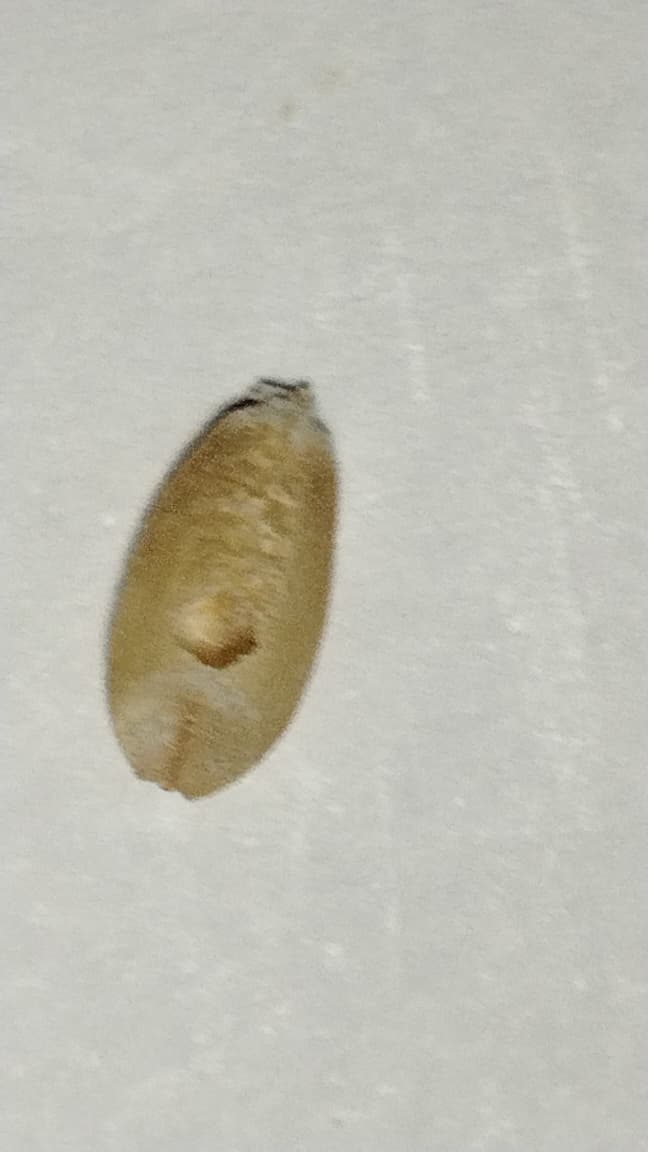damage: (103, 381, 337, 798)
insectdamage: (159, 571, 267, 683)
